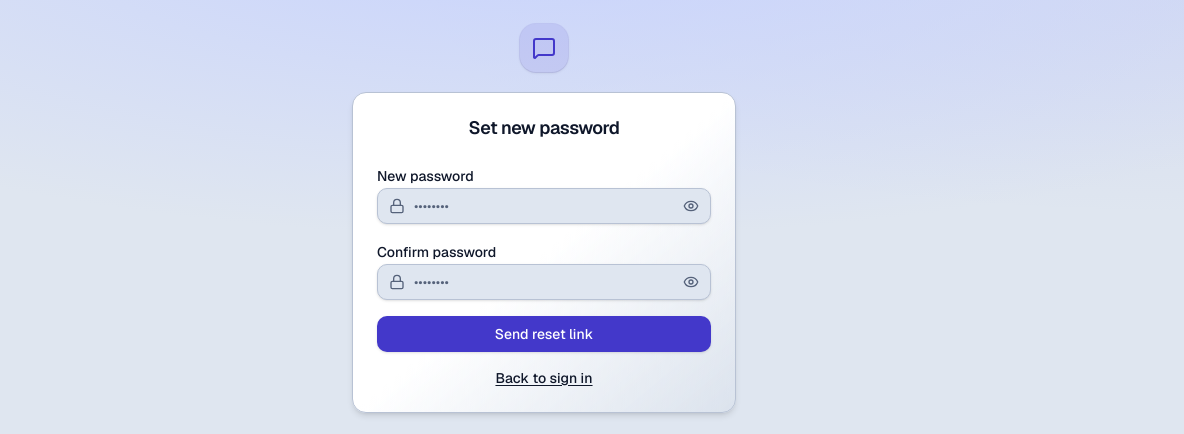
Test: ResetPasswordPage — inner content › submits reset and shows success with redirect link
Type "newpassword123" into the password field labelled "New password" at [544, 206], box [377, 188, 711, 224]
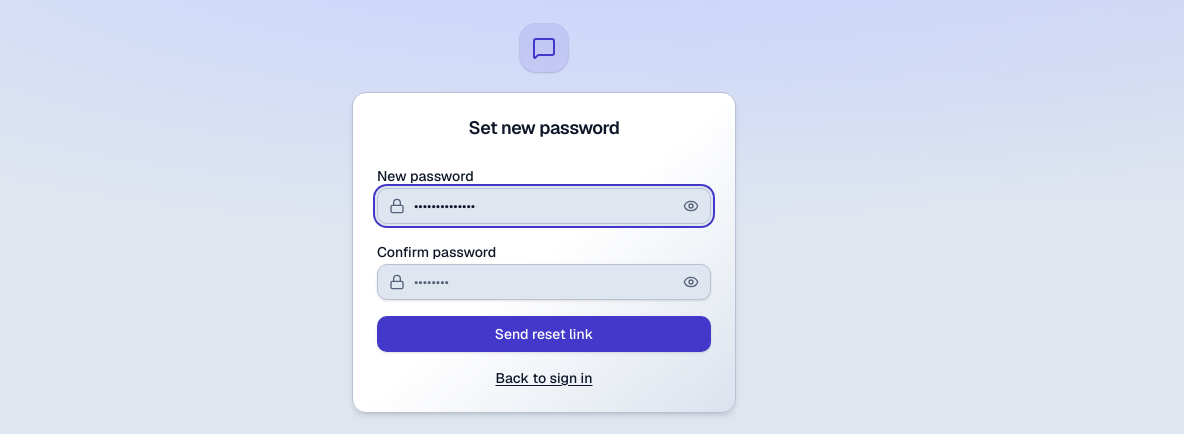
Type "newpassword123" into the password field labelled "Confirm password" at [544, 282], box [377, 264, 711, 300]
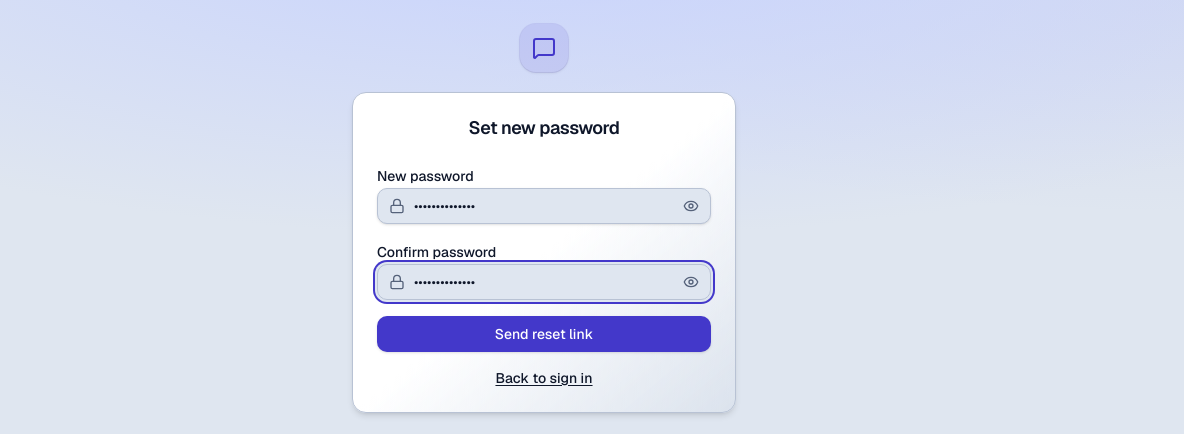
Click the button "Send reset link" at [544, 334], box [377, 316, 711, 352]
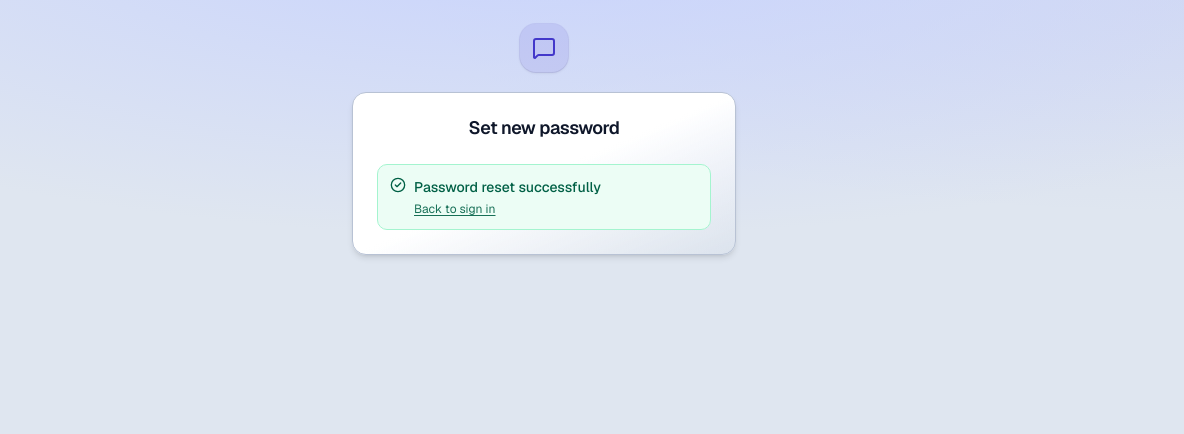
Expected: the text "Password reset successfully" is shown, [414, 178, 601, 196]
